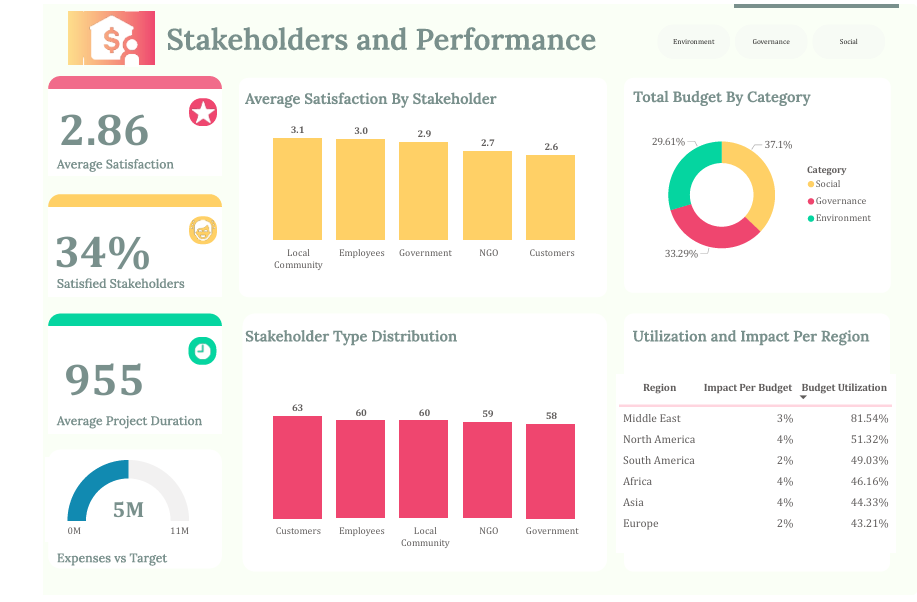

What the dashboard file says about the page in this screenshot:
{"tool":"powerbi","page":{"name":"Page 2","canvas":[1500,968],"ordinal":1},"visuals":[{"type":"columnChart","fields":{"Category":["Dim_StakeholdersType.StakeholderType"],"Y":["_Measures.Avg_Satisfaction"]},"box":[388.3,178.3,603.3,261.7],"z":0},{"type":"donutChart","fields":{"Category":["Dim_Projects.Category"],"Y":["_Measures.Total_Budget"]},"box":[1036.7,160,400,300],"z":1000},{"type":"columnChart","fields":{"Category":["Dim_StakeholdersType.StakeholderType"],"Y":["_Measures.Stakeholders_count"]},"box":[388.3,630,603.3,261.7],"z":2000},{"type":"tableEx","fields":{"Values":["Dim_Projects.Region","_Measures.Impact_per_Budget","_Measures.Budget_Utilization"]},"box":[1008,602,454,290],"z":3000},{"type":"card","fields":{"Values":["_Measures.Avg_Satisfaction"]},"box":[45.6,132.2,260,130],"z":4000},{"type":"card","fields":{"Values":["_Measures.Satisfied_%"]},"box":[42.9,330,261.4,130],"z":5000},{"type":"card","fields":{"Values":["_Measures.Avg_Project_Duration"]},"box":[46,538,260,130],"z":6000},{"type":"advancedSlicerVisual","fields":{"Values":["Dim_Projects.Category"]},"box":[1070,27.5,381.2,66.2],"z":7000},{"type":"gauge","fields":{"Y":["_Measures.Total_Expenses"]},"box":[79.3,736.4,270,137.1],"z":8000}]}

Visuals, with their boxes in screenshot pixels (x1, y1, x2, y2), scaled from the page's 1500x968 canvas onto the 917x602 screenshot:
columnChart - Dim_StakeholdersType.StakeholderType x _Measures.Avg_Satisfaction: rect(237, 111, 606, 274)
donutChart - Dim_Projects.Category x _Measures.Total_Budget: rect(634, 100, 878, 286)
columnChart - Dim_StakeholdersType.StakeholderType x _Measures.Stakeholders_count: rect(237, 392, 606, 555)
tableEx - Dim_Projects.Region x _Measures.Impact_per_Budget: rect(616, 374, 894, 555)
card - _Measures.Avg_Satisfaction: rect(28, 82, 187, 163)
card - _Measures.Satisfied_%: rect(26, 205, 186, 286)
card - _Measures.Avg_Project_Duration: rect(28, 335, 187, 415)
advancedSlicerVisual - Dim_Projects.Category: rect(654, 17, 887, 58)
gauge - _Measures.Total_Expenses: rect(48, 458, 214, 543)
